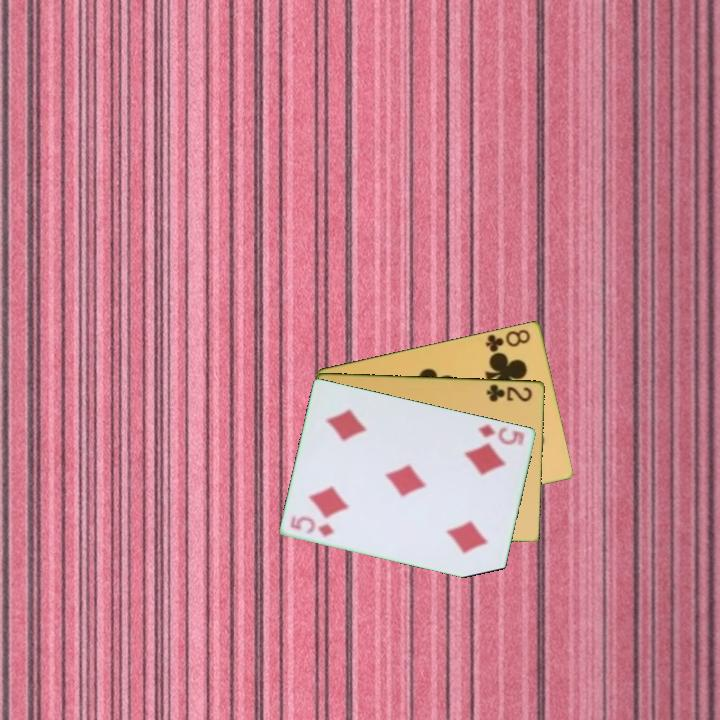2c: (484, 380, 535, 404)
5d: (474, 420, 528, 448), (287, 511, 337, 540)
8c: (482, 325, 533, 357)
